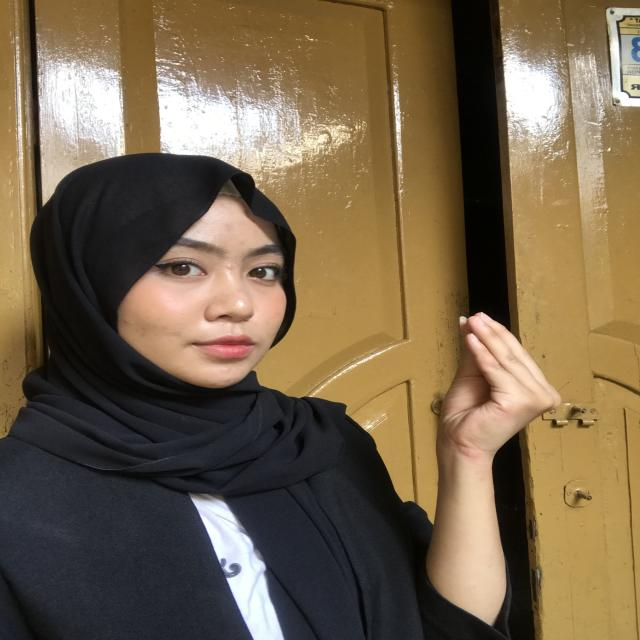kapan: (386, 300, 568, 537)
